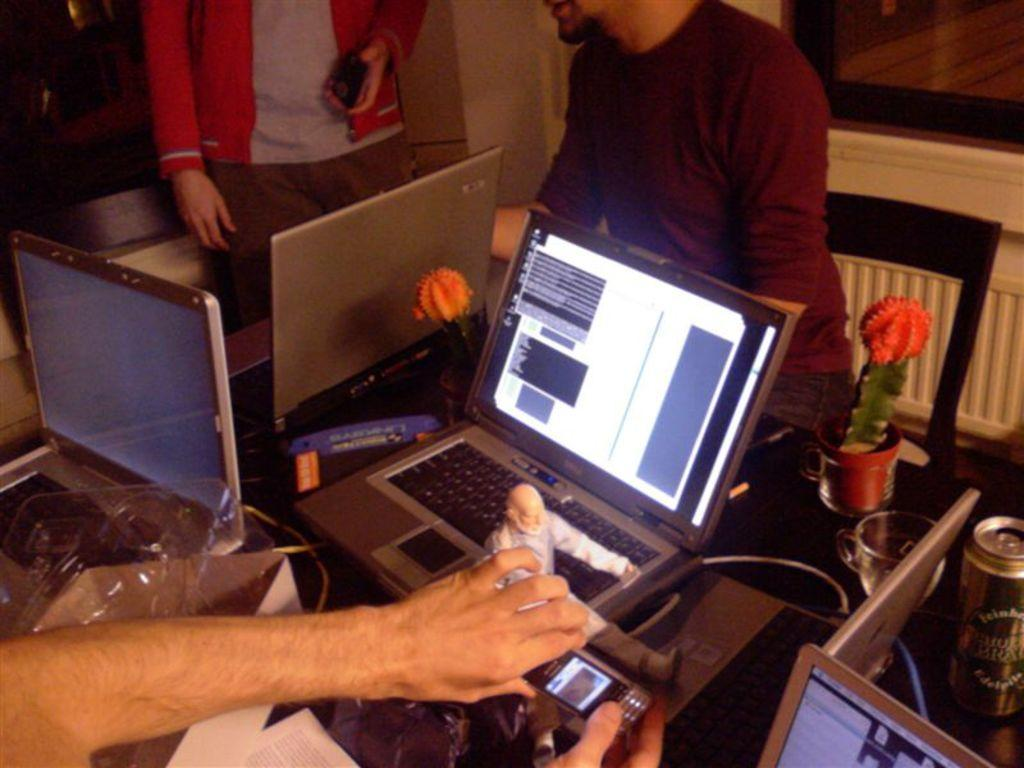Laptop: (346, 192, 800, 608), (557, 490, 978, 767), (0, 229, 242, 643), (228, 146, 502, 435), (760, 646, 995, 767)
